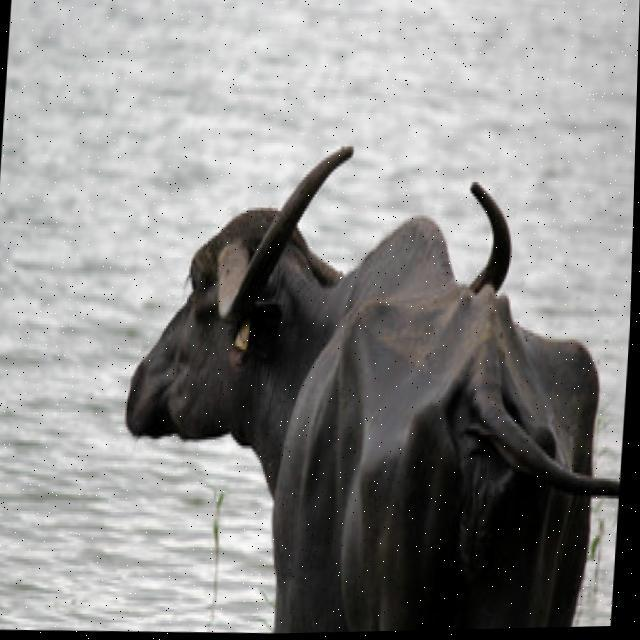Buffalo: (108, 124, 636, 637)
